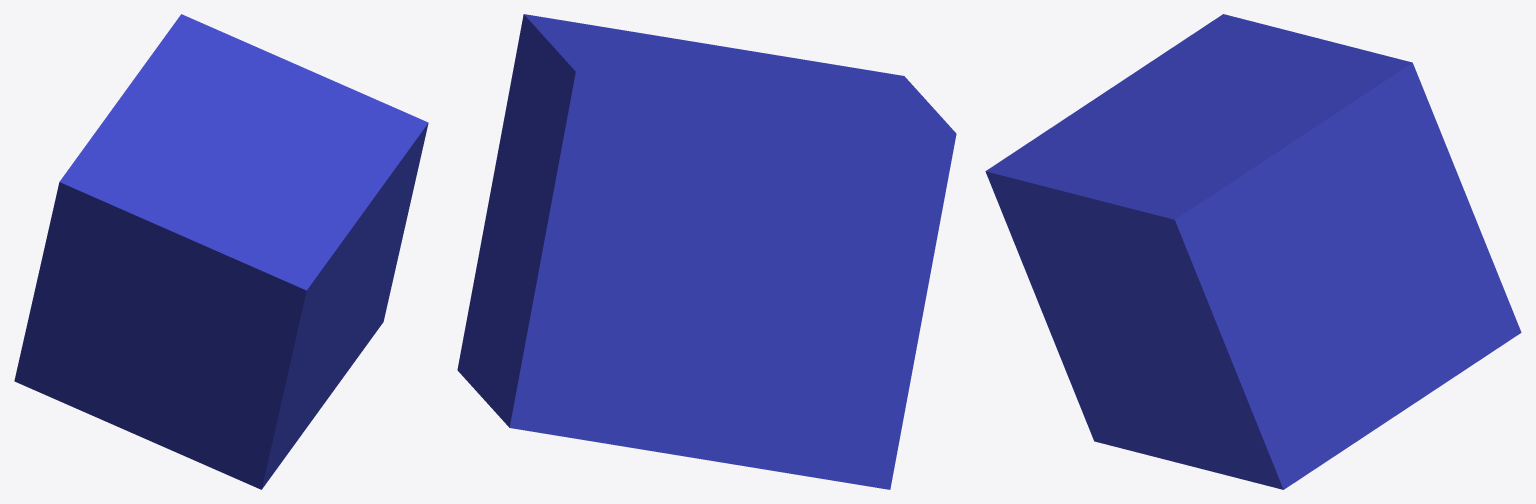
File: g_kubus.glb
The picture shows the model from 3 angles, left to right: view 1: azimuth 30°, elevation 25°; view 2: azimuth 150°, elevation 25°; view 3: azimuth 270°, elevation 25°; orthographic projection. The views are drawn at different scales.
Parts seen in each view (by area): view 1: Object_5; view 2: Object_5; view 3: Object_5.
Part boxes in pixels (x1=…): Object_5: x1=14, y1=14, x2=428, y2=489; Object_5: x1=457, y1=14, x2=956, y2=489; Object_5: x1=985, y1=14, x2=1521, y2=489.
Size of the model in its own units: 0.4128 by 0.4048 by 0.4778.
1 material, 1 textured.
